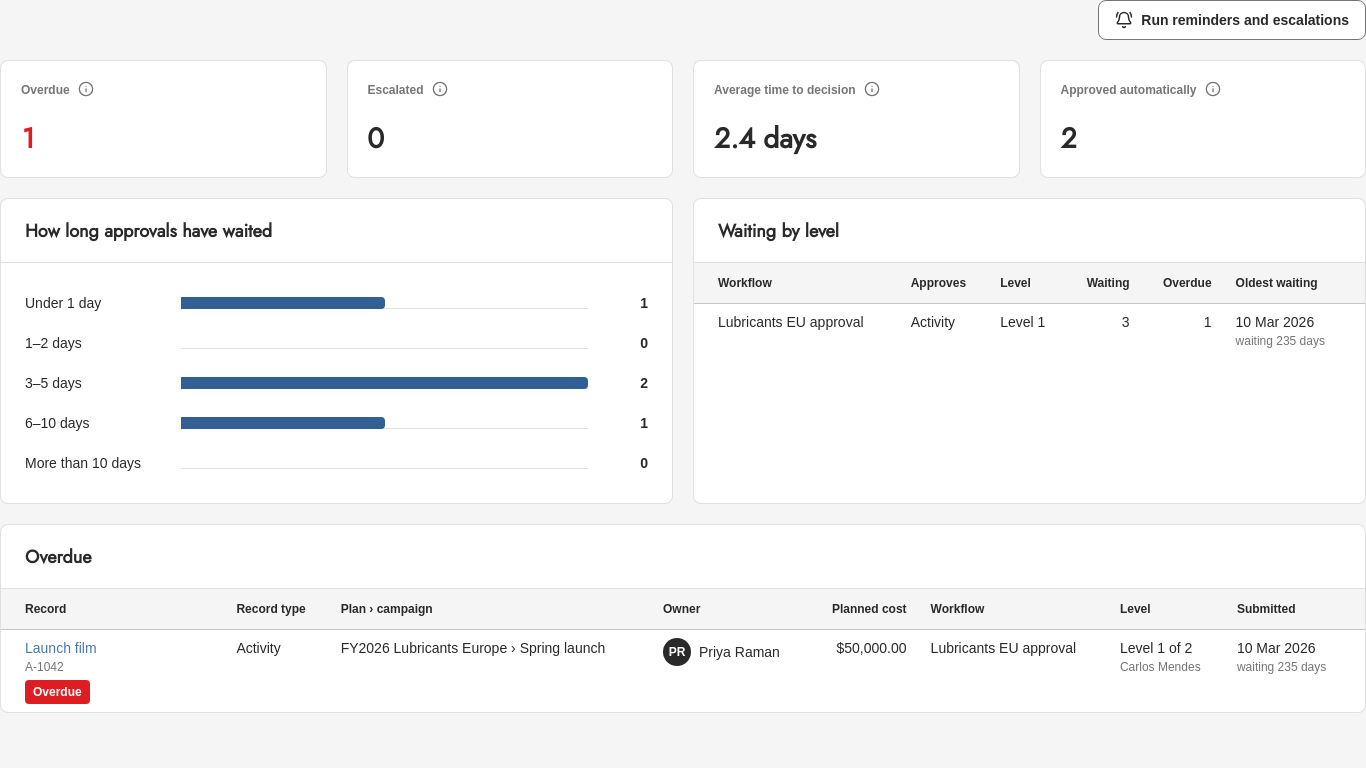
Test: RunEscalationsButton (feature 017, US5) › asks first, then says what was sent and what could not be escalated (FR-028)
The width and height of the screenshot is (1366, 768).
Click the button "Run reminders and escalations": (1232, 20) [1098,0,1365,40]
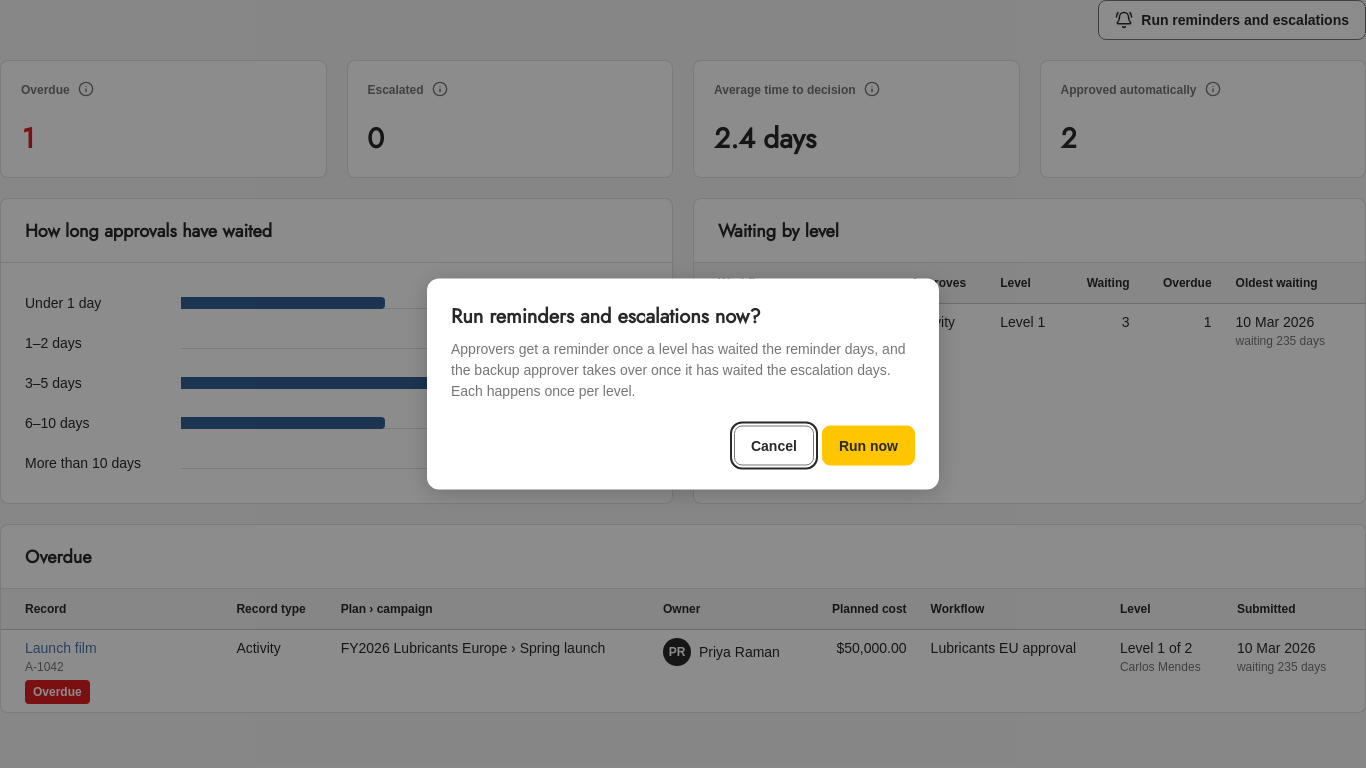
Check: the dialog "Run reminders and escalations now?" shows "Each happens once per level.", box [451,340,906,398]
Click the button "Run now": (868, 446) [822,426,915,466]
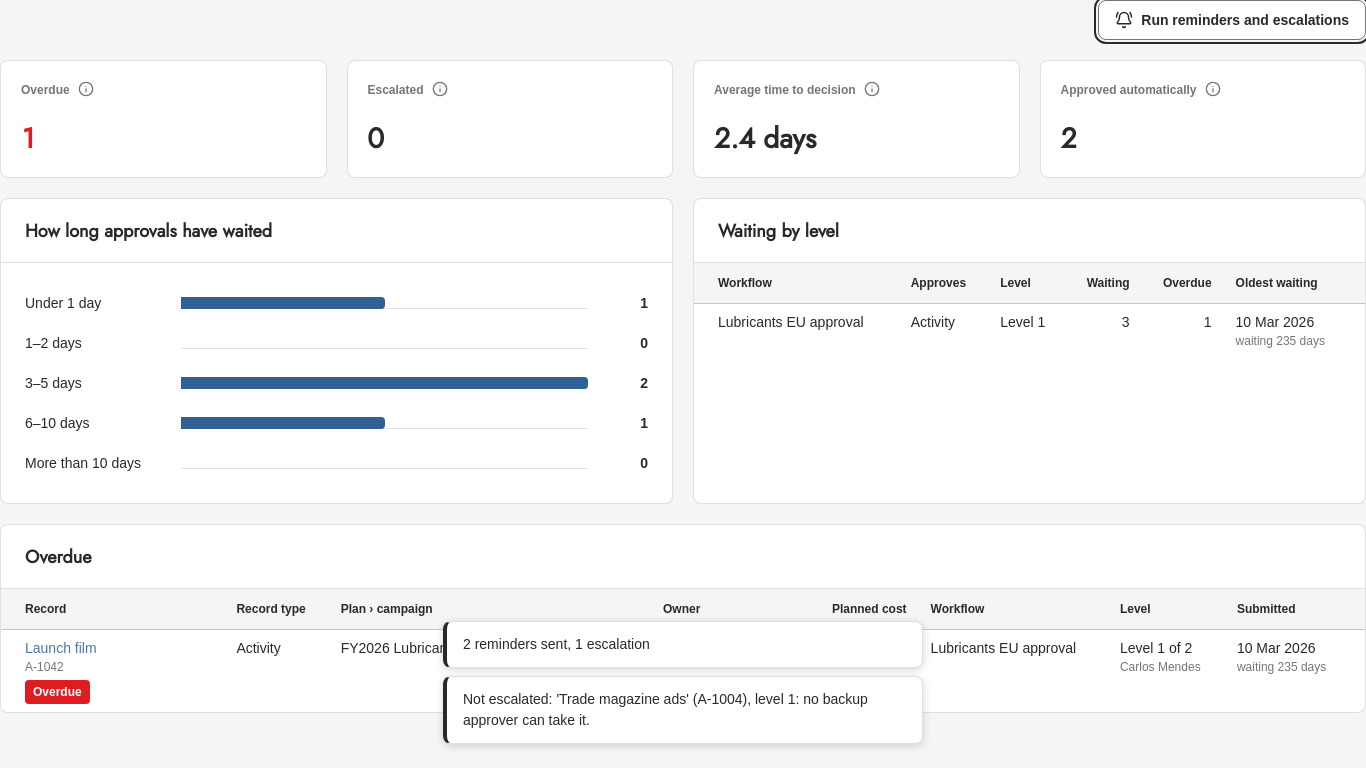
Check: the text "2 reminders sent, 1 escalation" is shown, box [463,636,650,652]
Check: the text "Not escalated: 'Trade magazine ads' (A-1004), level 1: no backup approver can take it." is shown, box [463,691,868,728]
